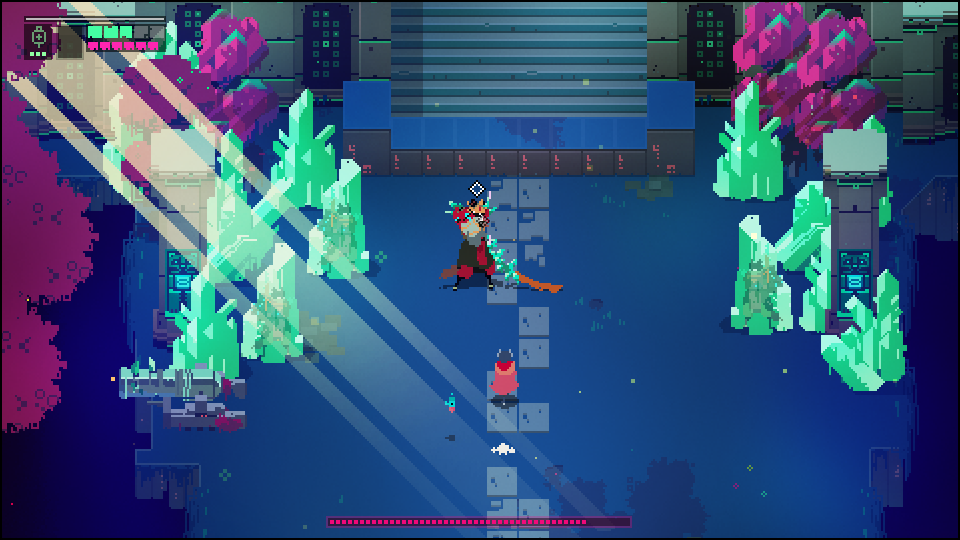hanged_man: (437, 188, 526, 302)
player: (489, 342, 526, 406)
